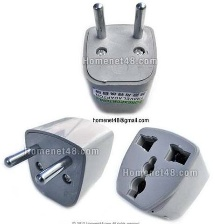three_eye_plug: (1, 110, 116, 212), (111, 123, 216, 224), (80, 2, 158, 118)
